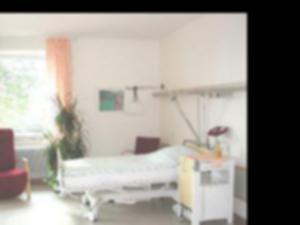Matera: (46, 92, 89, 193)
